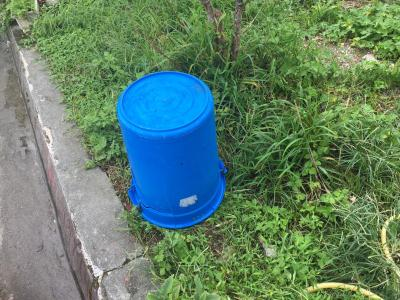bucket: (115, 68, 232, 231)
